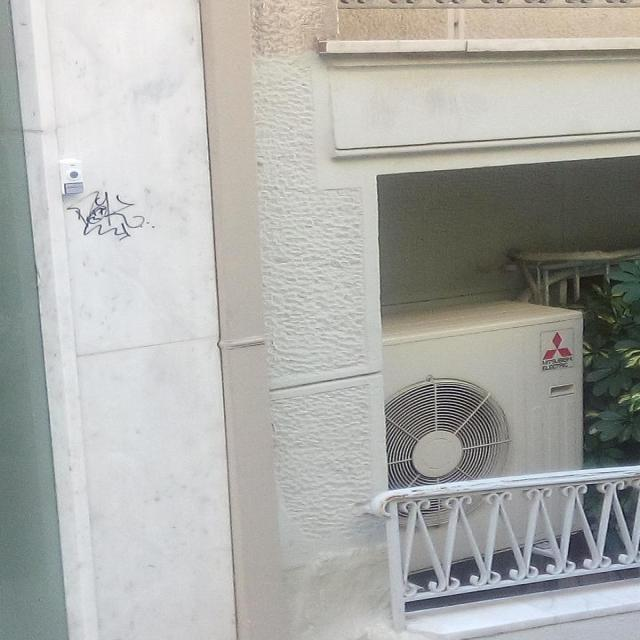nonspitting: (68, 190, 148, 238)
